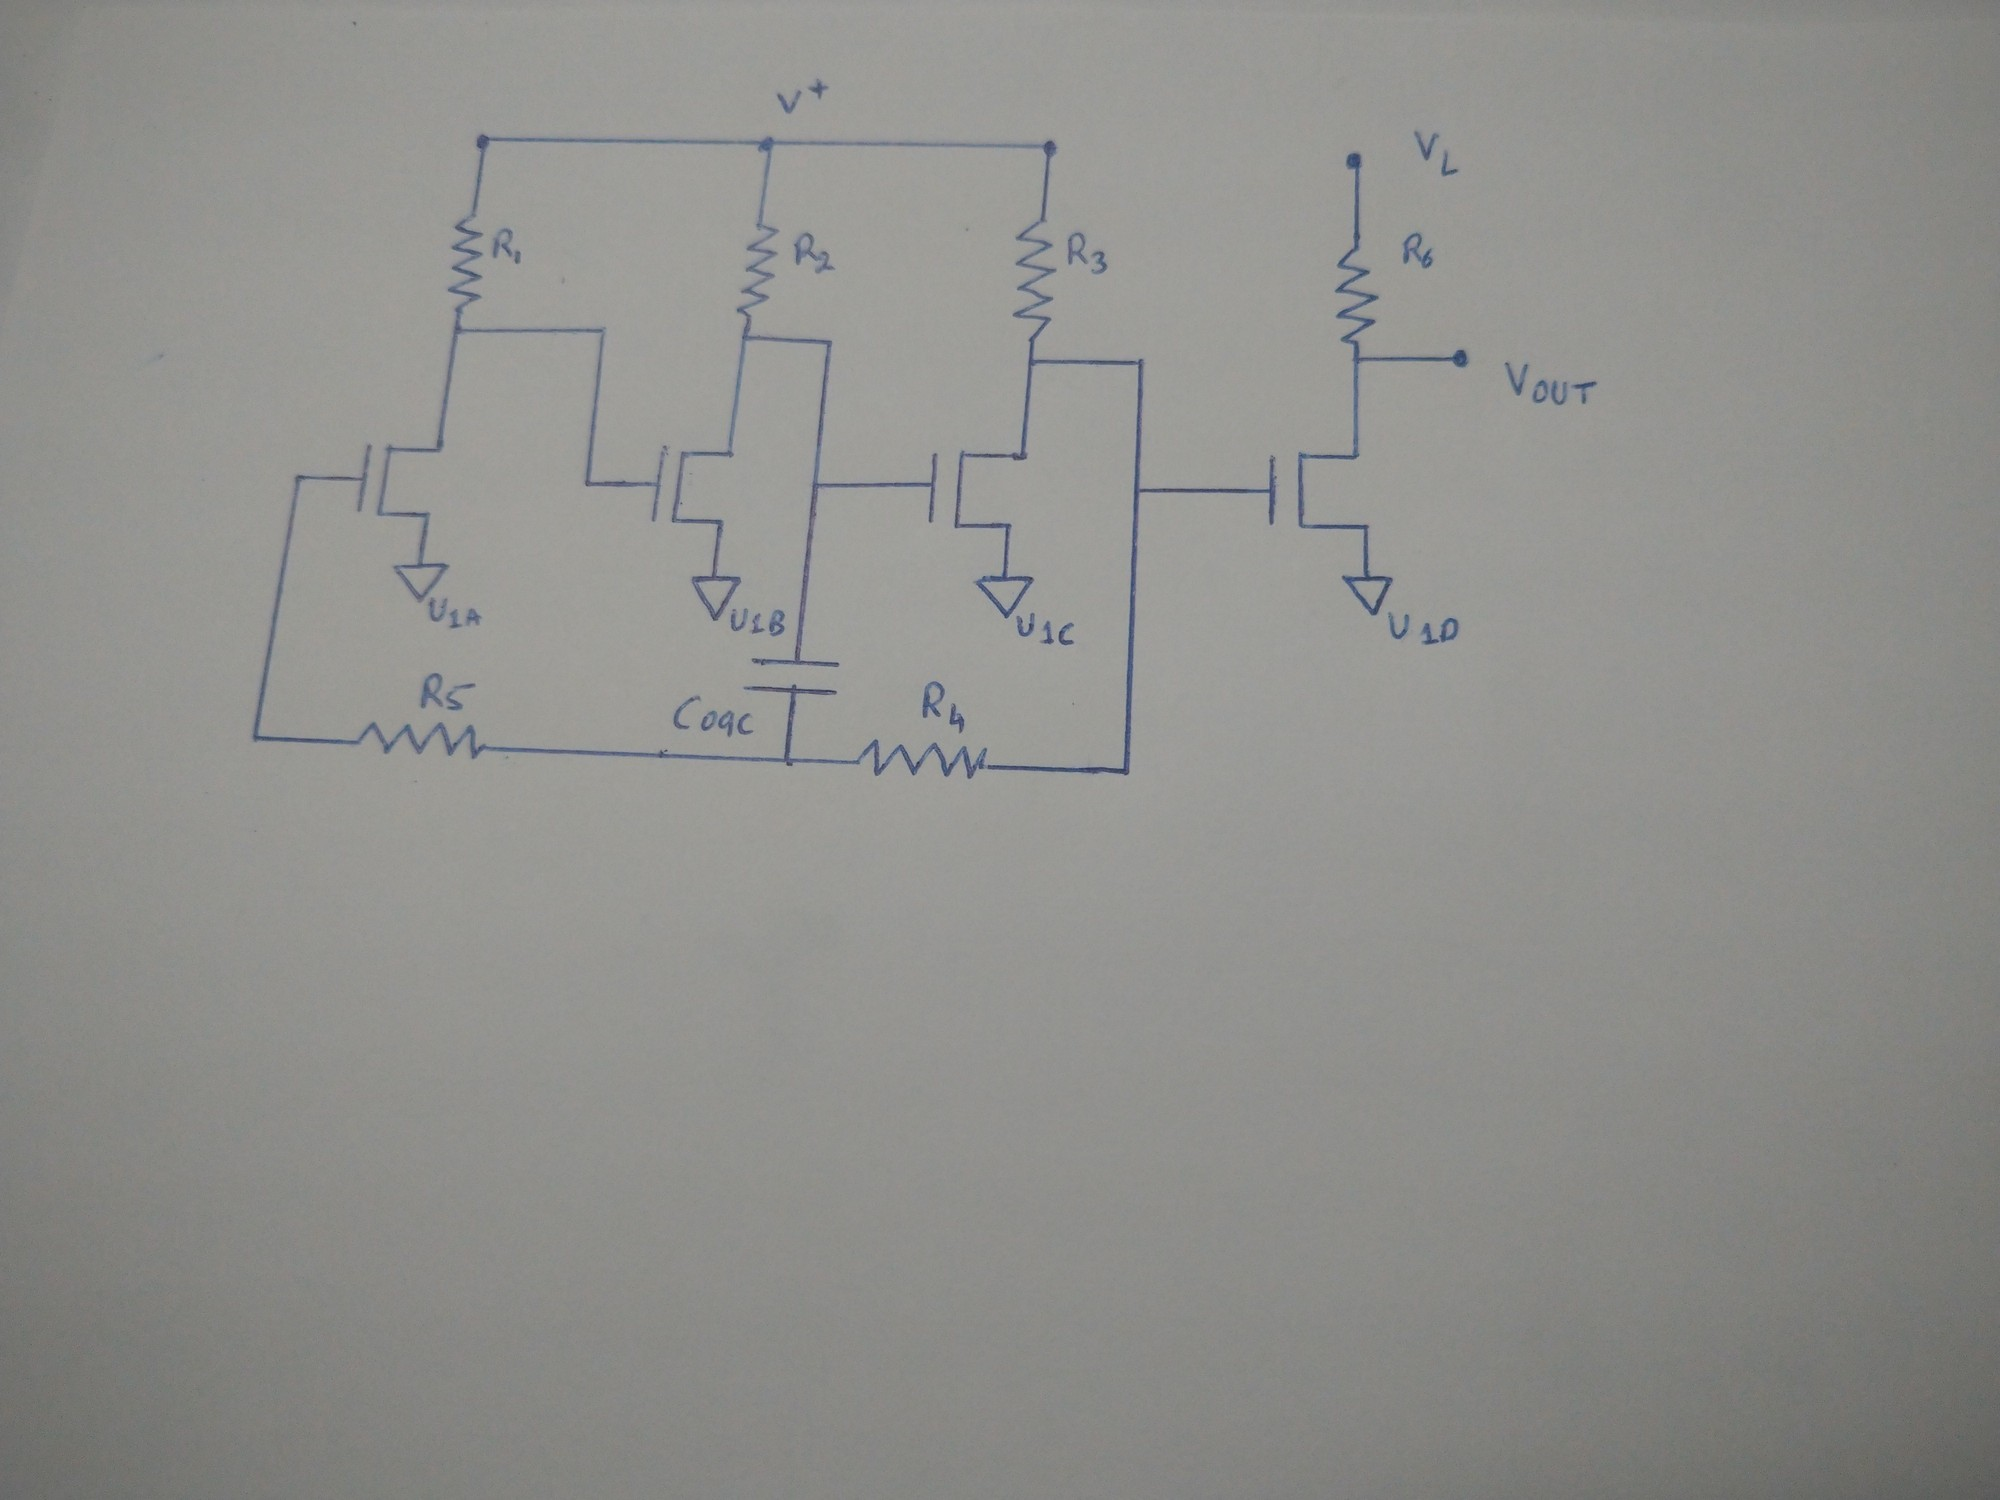capacitor.unpolarized: (742, 649, 843, 703)
gnd: (1339, 570, 1395, 619)
junction: (754, 131, 784, 159), (1036, 132, 1066, 161), (471, 128, 499, 153), (806, 471, 833, 496), (1124, 350, 1148, 375), (775, 750, 797, 775), (580, 473, 605, 495), (1124, 477, 1150, 498), (591, 321, 616, 342), (290, 466, 310, 490), (1113, 758, 1134, 782), (446, 321, 468, 342), (1022, 351, 1044, 370), (247, 730, 268, 748), (739, 329, 759, 347), (822, 334, 839, 353), (1350, 353, 1367, 367)
resistor: (346, 718, 509, 767), (850, 736, 991, 788), (1008, 214, 1061, 348), (1331, 243, 1383, 351), (731, 219, 780, 325), (443, 210, 488, 317)
terminal: (972, 570, 1036, 619), (685, 570, 743, 622), (391, 559, 452, 607), (1335, 147, 1369, 178), (1447, 343, 1479, 373)
text: (1501, 358, 1597, 410), (672, 693, 754, 741), (920, 679, 978, 737), (413, 666, 480, 715), (1409, 124, 1469, 180), (1381, 611, 1458, 648), (1011, 611, 1077, 651), (772, 76, 828, 120), (1065, 228, 1113, 279), (425, 596, 491, 632), (794, 228, 843, 277), (726, 603, 791, 640), (1397, 228, 1436, 273), (490, 224, 528, 266)
transistor: (1258, 444, 1380, 537), (921, 443, 1039, 536), (350, 436, 458, 525), (643, 443, 743, 533)
